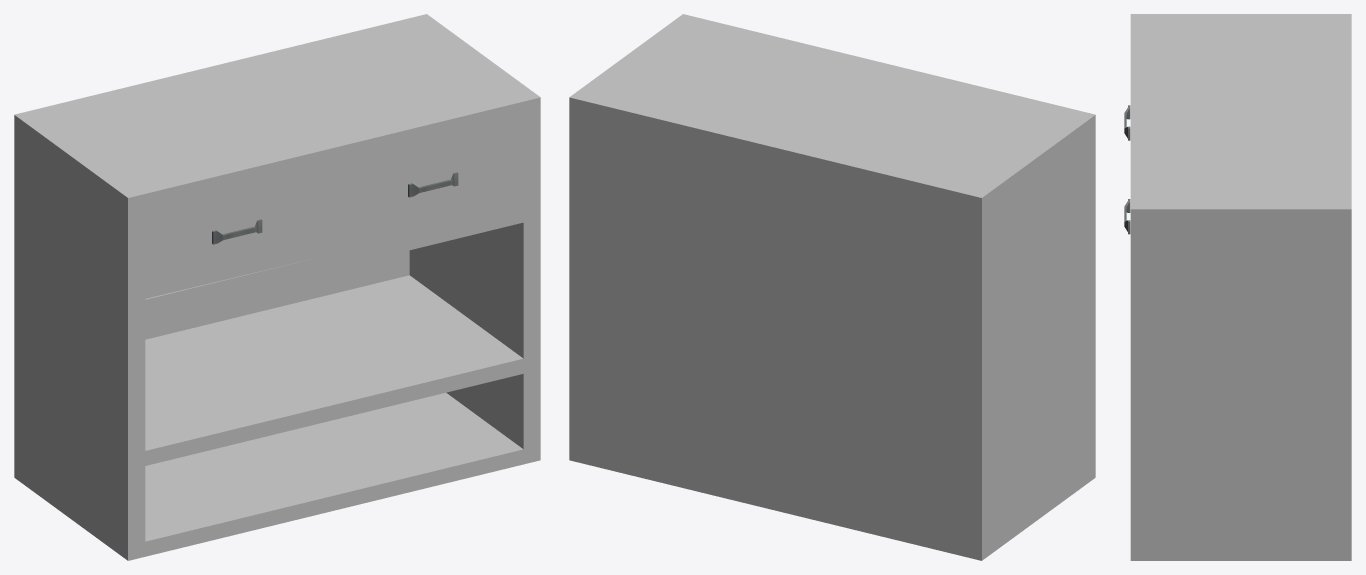
The model's file is Dresser.fbx.
3 renders of one model, left to right at view 1: azimuth 30°, elevation 25°; view 2: azimuth 150°, elevation 25°; view 3: azimuth 270°, elevation 25°, orthographic. The views are drawn at different scales.
Parts seen in each view (by area): view 1: Frame, LeftHandle, RightHandle; view 2: Frame; view 3: Frame.
Boxes of the visible parts, left/top/right/bottom form: Frame: left=14, top=14, right=540, bottom=560; LeftHandle: left=145, top=164, right=327, bottom=298; RightHandle: left=341, top=116, right=523, bottom=251; Frame: left=569, top=14, right=1095, bottom=560; Frame: left=1130, top=14, right=1351, bottom=560.
Size of the model in its own units: 127 by 107 by 62.72.
